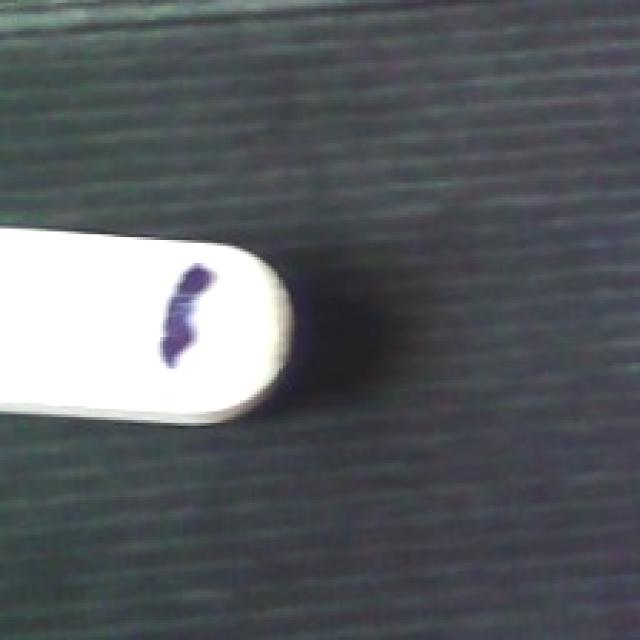defected: (3, 223, 306, 428)
